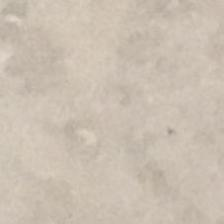Non_Crack: (22, 33, 182, 165)
